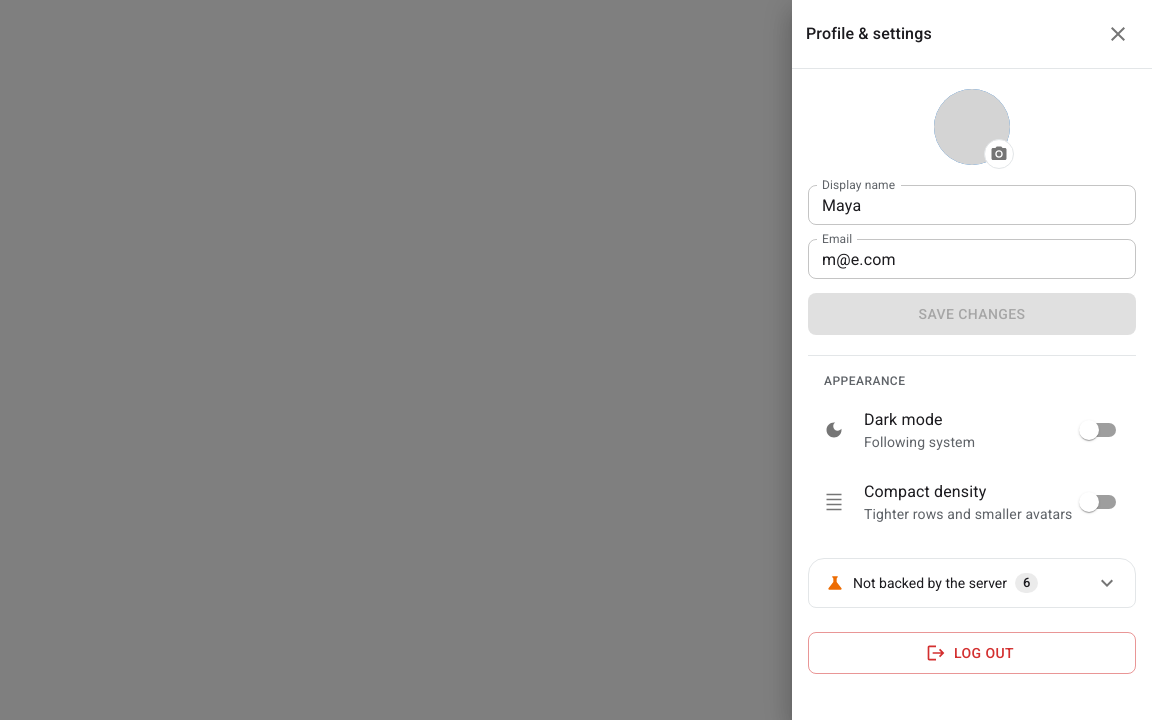
Test case: the avatar menu › is drawn for a photo with no stored original, minus Adjust crop
What coordinates should you click on to do the following:
click the button named "profile photo options"
I would click on:
 (999, 154)
Its box is [984,139,1014,169].
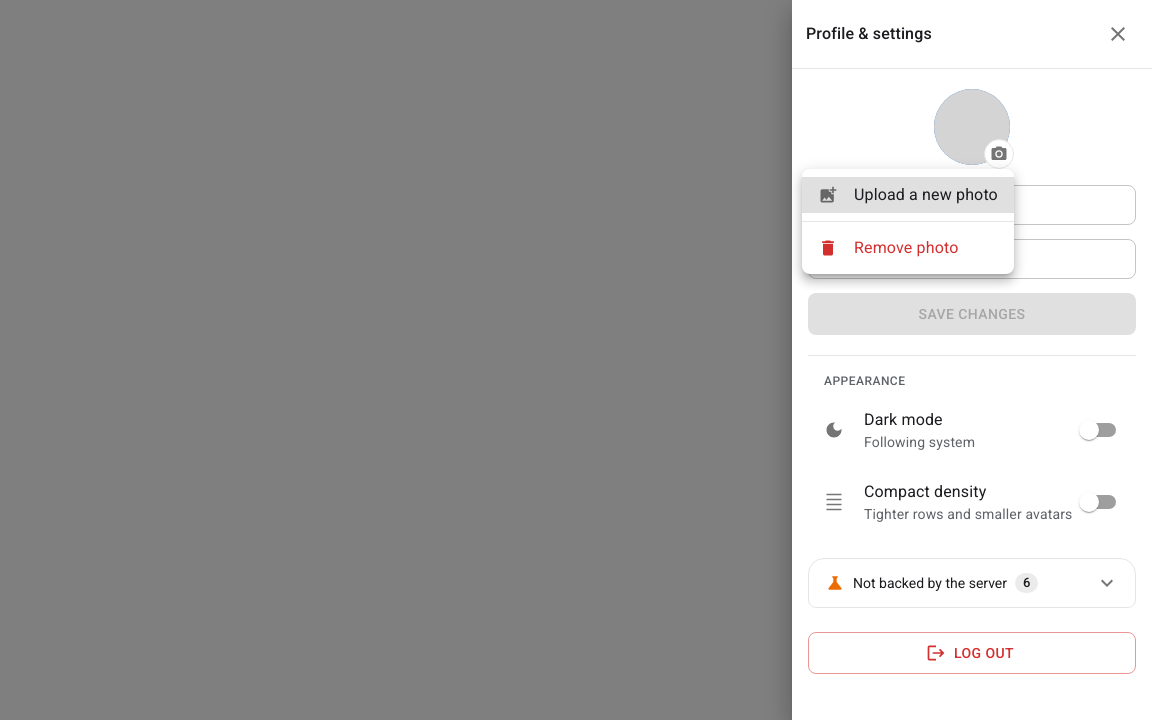
Expected: the menu item "Upload a new photo" is shown, [802,177,1014,213]
Expected: the menu item "Remove photo" is shown, [818,238,958,258]
